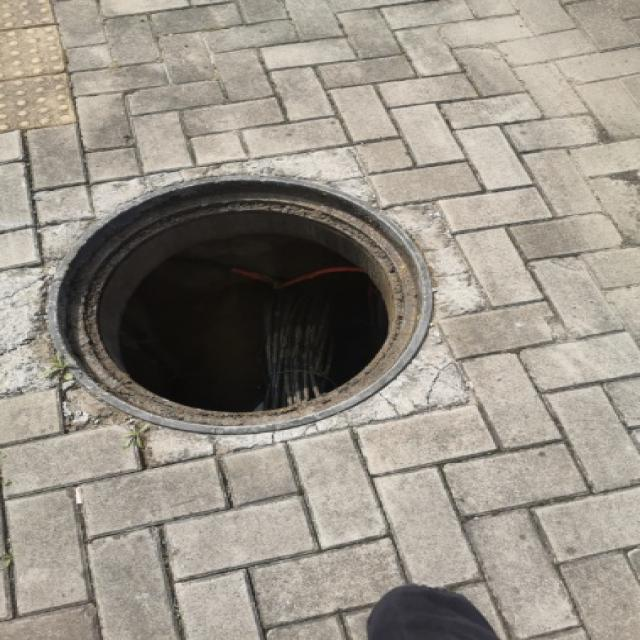Uncovered: (29, 157, 479, 454)
